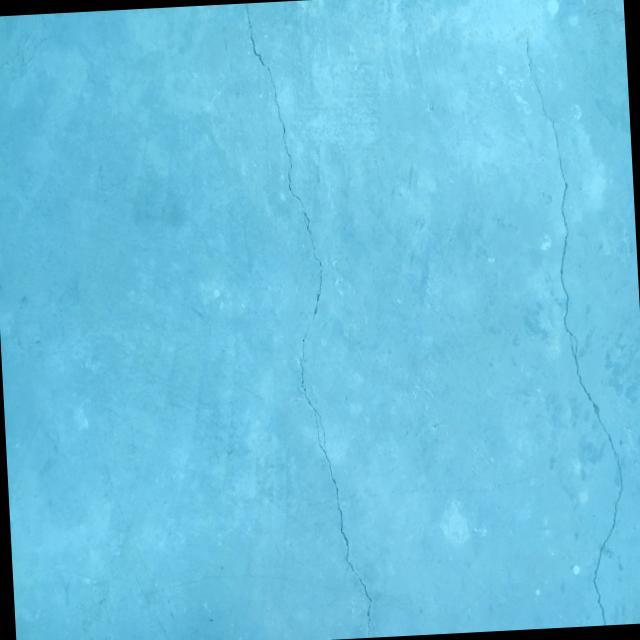crack: (245, 0, 375, 640), (528, 33, 632, 628), (523, 0, 614, 19)
